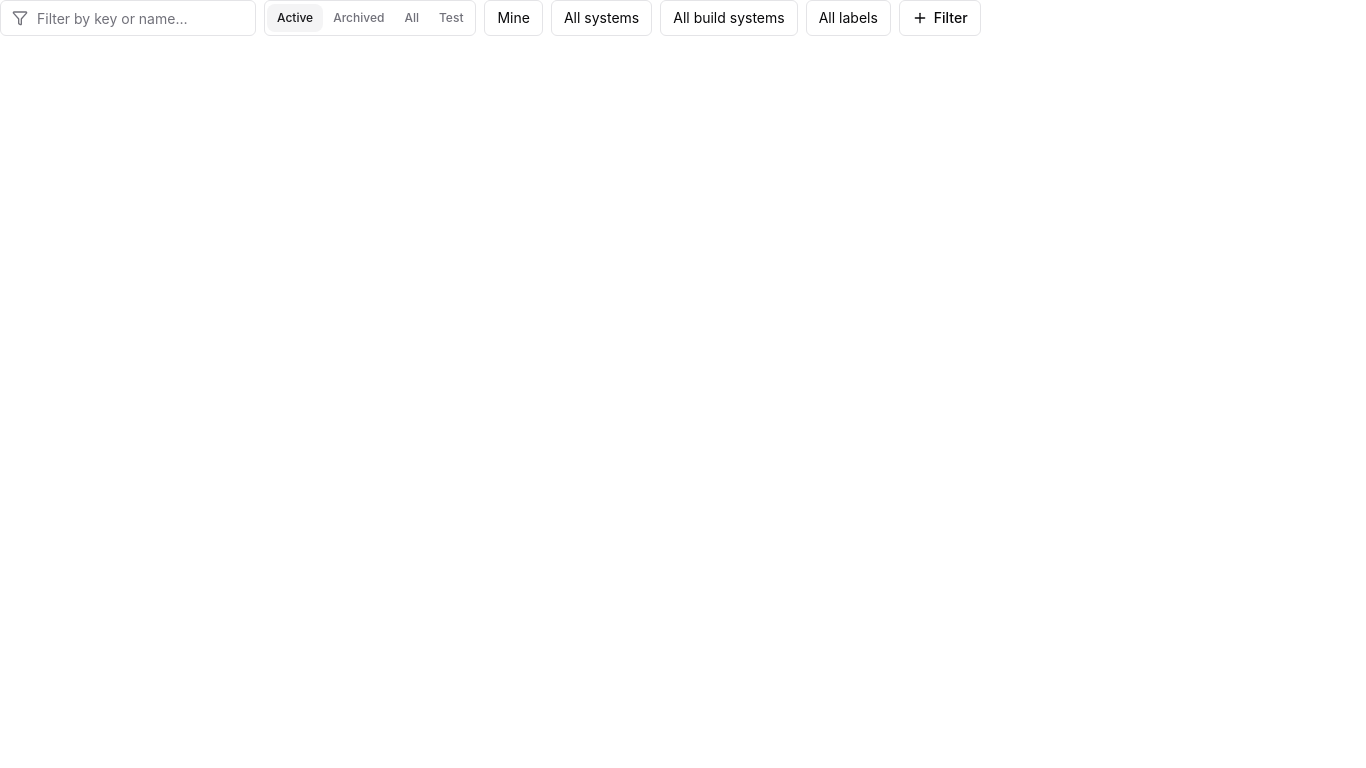
Scenario: ComponentFilters "+ Filter" panel (extended dimensions) › owner searchable:Extended moves the owner picker into "+ Filter"
The width and height of the screenshot is (1366, 768).
What coordinates should you click on to do the following:
click the button with aria-label "Add filter"
I would click on:
 (940, 18)
Its box is x1=899 y1=0 x2=981 y2=36.
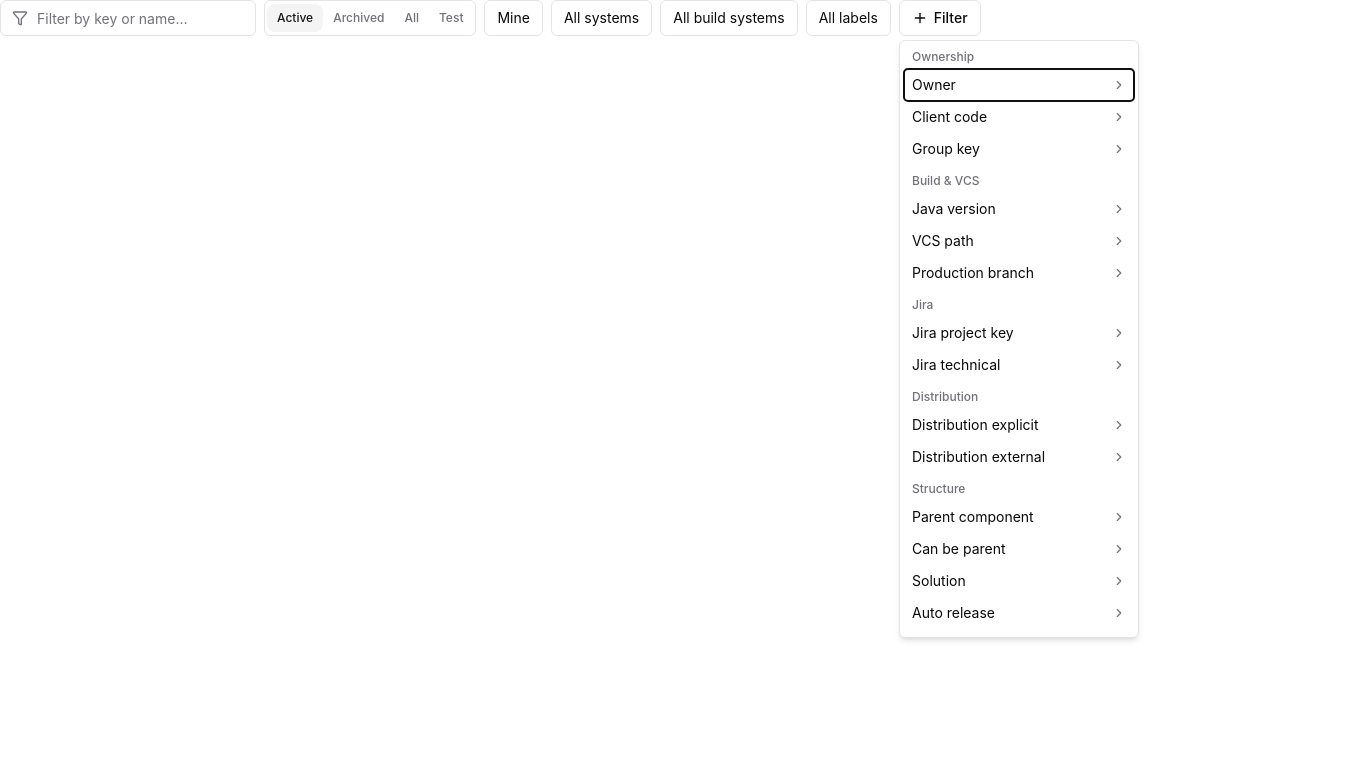
What coordinates should you click on to do the following:
click the button "Owner"
I would click on:
 (1019, 85)
Its box is x1=904 y1=69 x2=1134 y2=101.
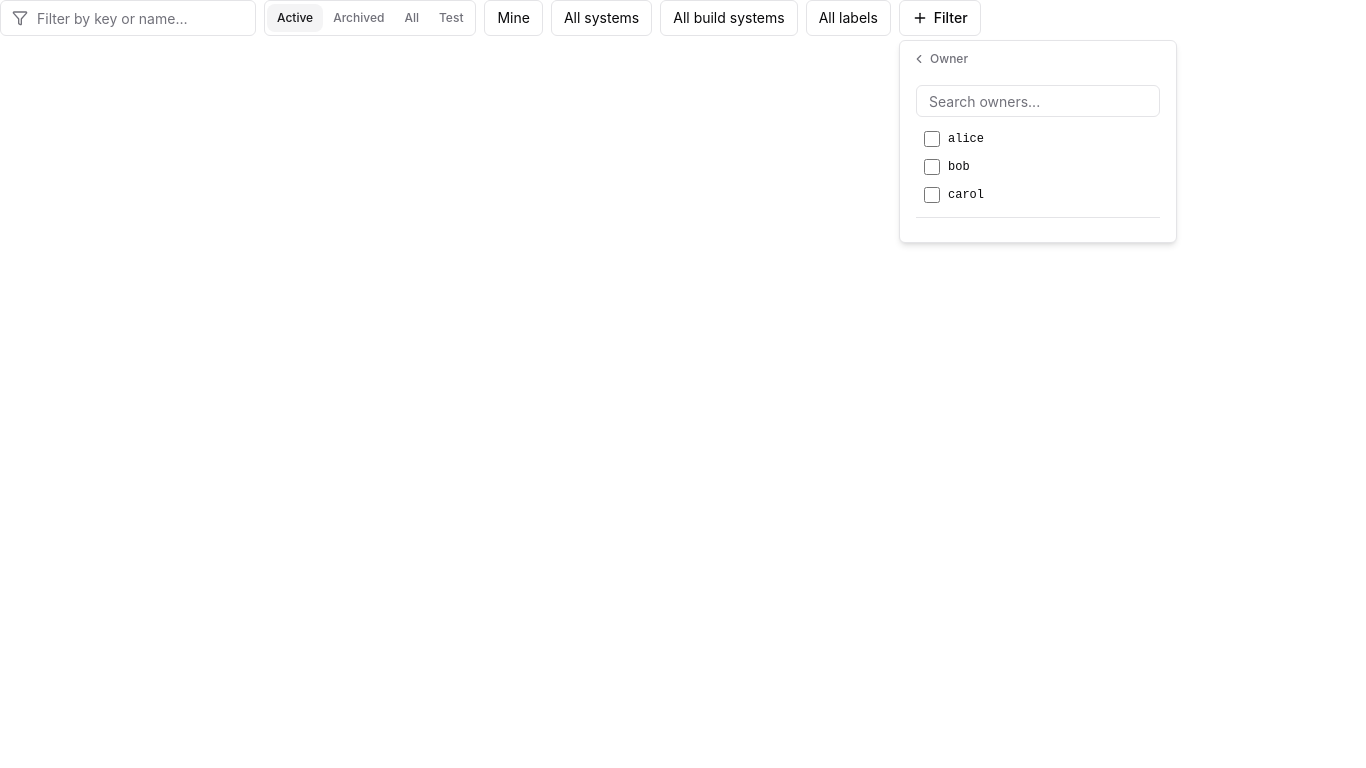
Expected: the field with placeholder "Search owners..." is shown, x1=916 y1=85 x2=1160 y2=117
